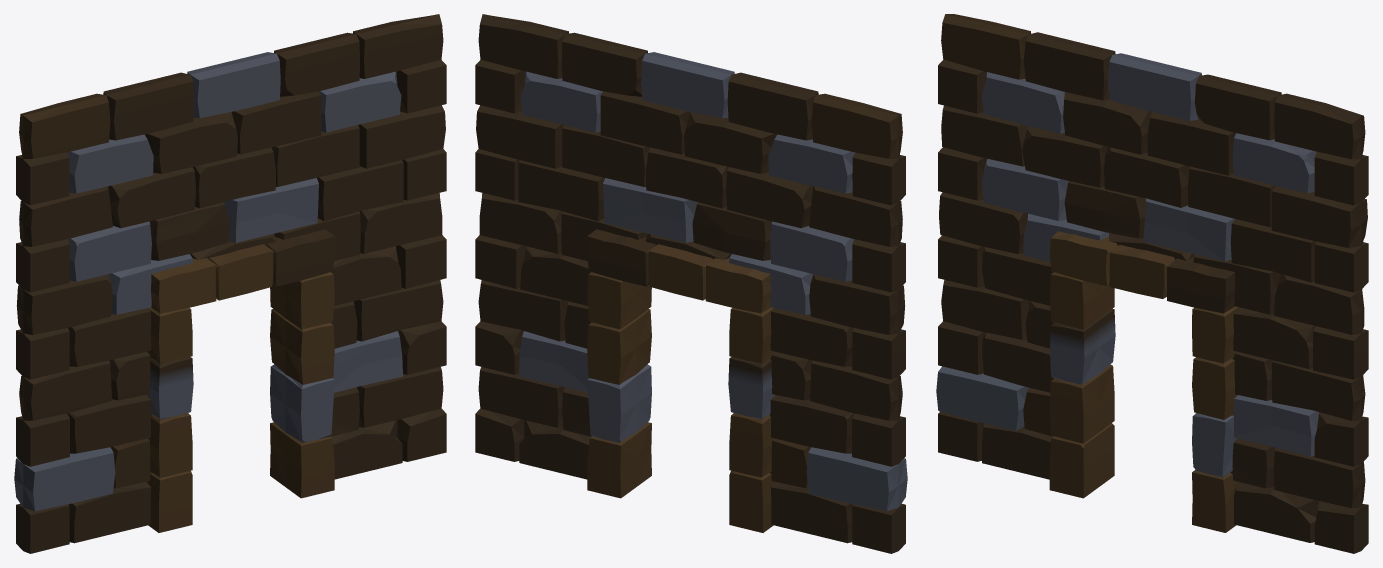
File: Wall_07.fbx
The picture shows the model from 3 angles, left to right: view 1: azimuth 30°, elevation 25°; view 2: azimuth 150°, elevation 25°; view 3: azimuth 330°, elevation 25°; orthographic projection.
Visible parts, largest first — view 1: Wall_07; view 2: Wall_07; view 3: Wall_07.
Part boxes in pixels (bbox=[...]): Wall_07: bbox=[14, 14, 446, 553]; Wall_07: bbox=[475, 14, 907, 553]; Wall_07: bbox=[936, 14, 1368, 553].
Bounding box in the file's own units: 4 × 4 × 0.5169.
